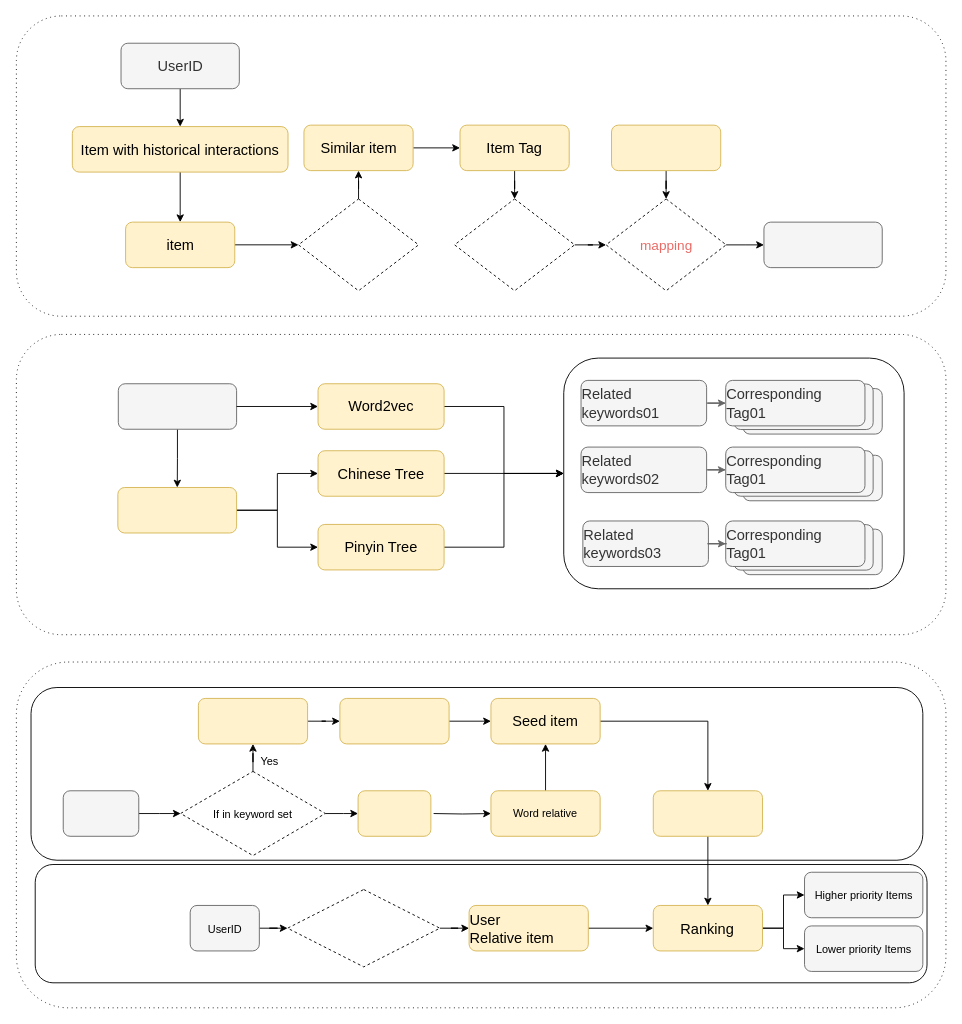
This 962x1024 diagram has some shape labels left out. The box of each missing label's shape, as (x1, y1, x2, y2) in pixels:
Default keywords: (611, 124, 721, 171)
Item Embedding: (298, 198, 419, 291)
Item relative item: (652, 790, 762, 836)
Keyword relative tags: (197, 698, 308, 744)
Orderly splicing: (454, 198, 575, 291)
Query: (62, 790, 139, 836)
Qurey: (117, 383, 237, 429)
Result display: (763, 221, 882, 268)
Split: (357, 790, 431, 836)
Tag relative item: (339, 698, 449, 744)
TRIE: (117, 487, 237, 533)
User Item Emdedding: (287, 889, 440, 967)
